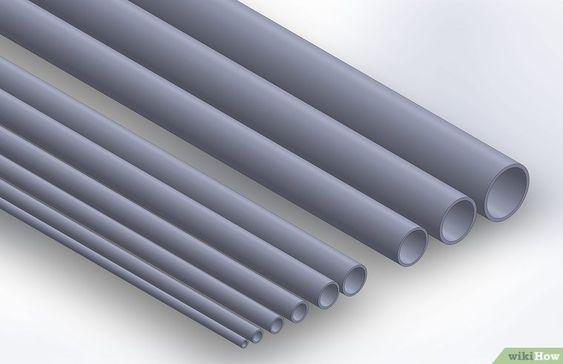PVC: (0, 0, 428, 266), (28, 0, 477, 245), (129, 0, 528, 224), (0, 55, 366, 296), (0, 89, 340, 309), (0, 123, 310, 324), (0, 153, 285, 332), (0, 179, 266, 343), (0, 197, 249, 346)
